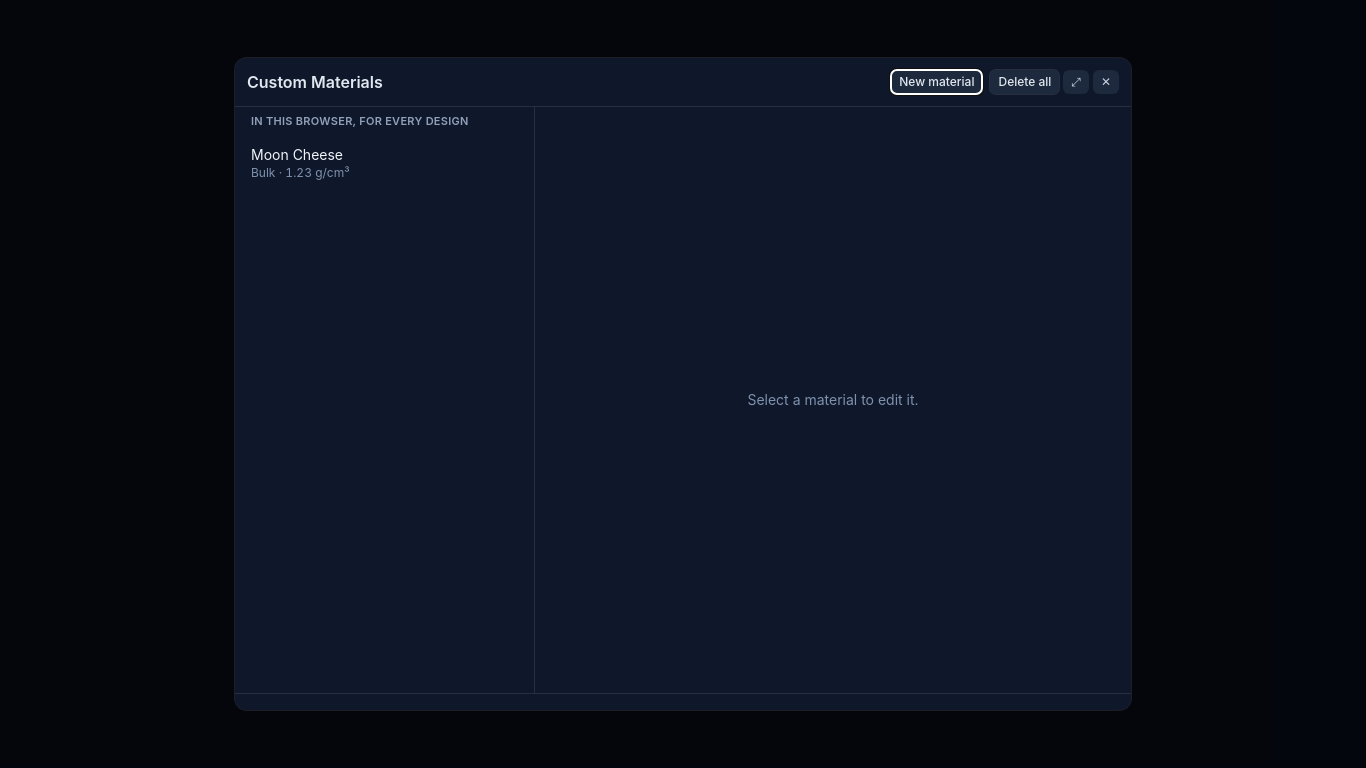
it: the failure line is a live region mounted before the failure › over the served catalogs › Custom Materials: a refused delete of a custom material
Click the button "Moon Cheese Bulk · 1.23 g/cm³" at (297, 155), box [235,135,534,191]
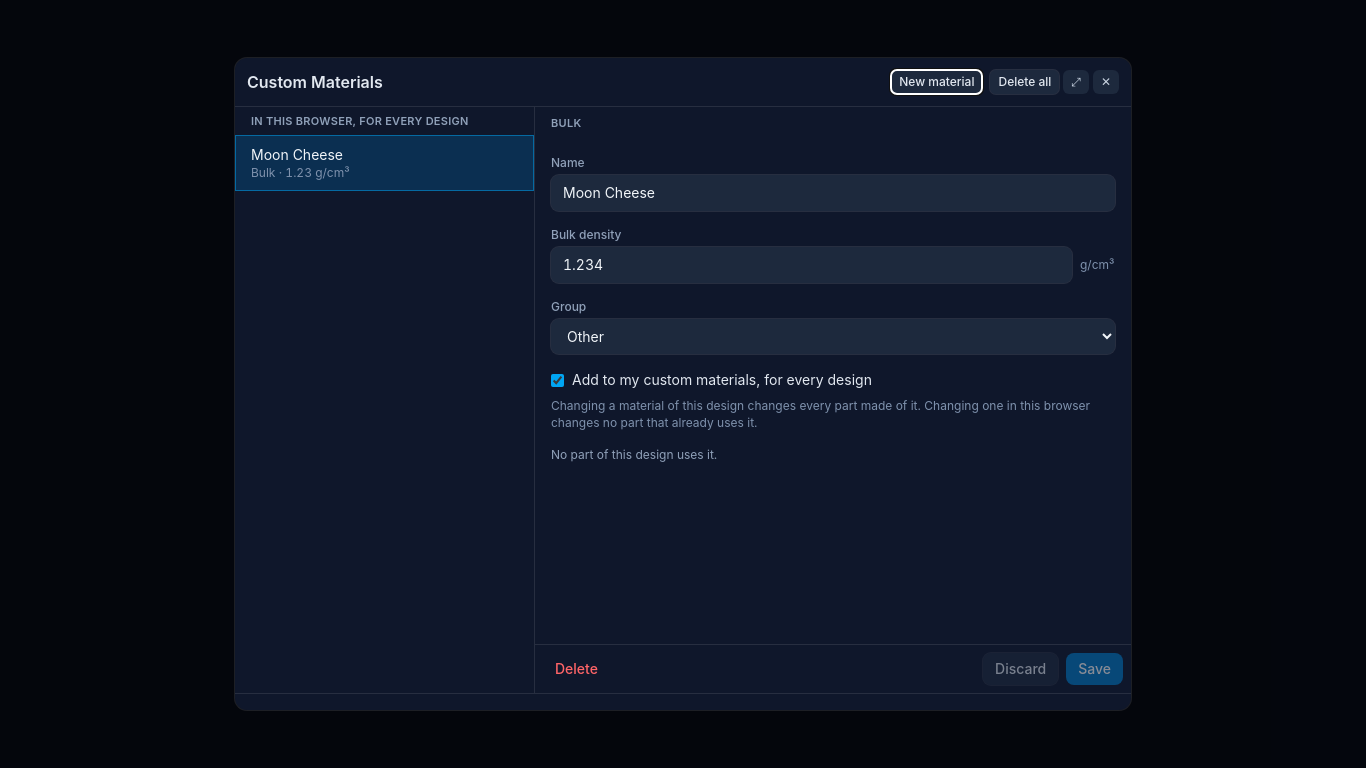
Expected: the message does not show "Storage refused the delete"
Click the button "Delete" at (576, 669), box [543,653,610,685]
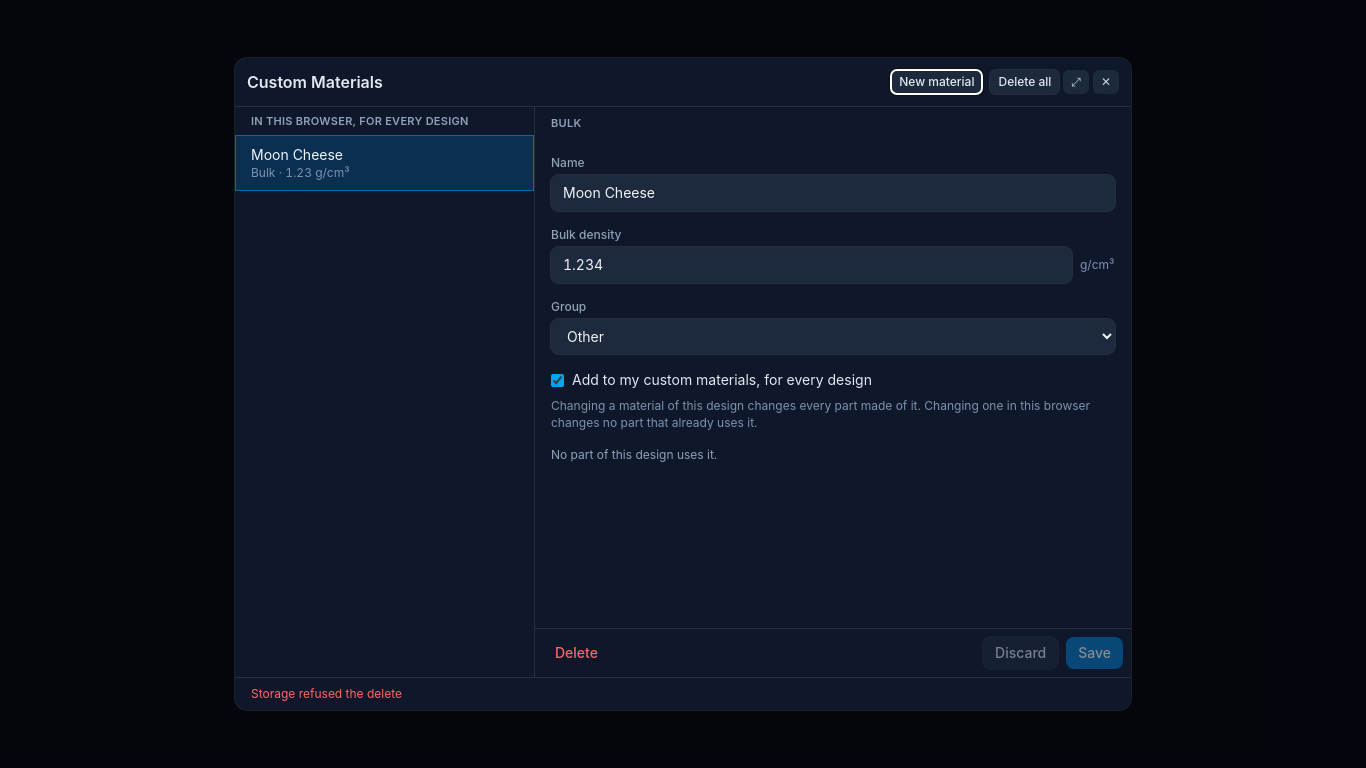
Expected: the message reads "Storage refused the delete", [251,686,402,701]
